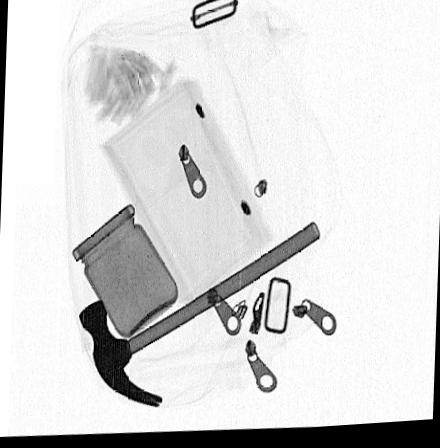Hammer: (77, 225, 319, 409)
